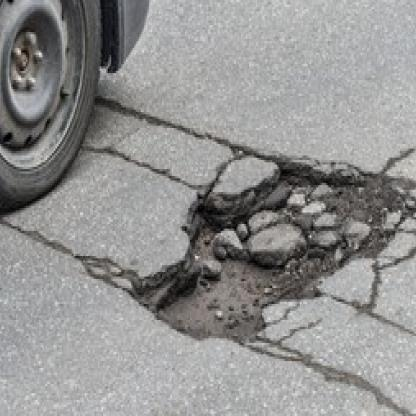pothole: (138, 149, 402, 345)
